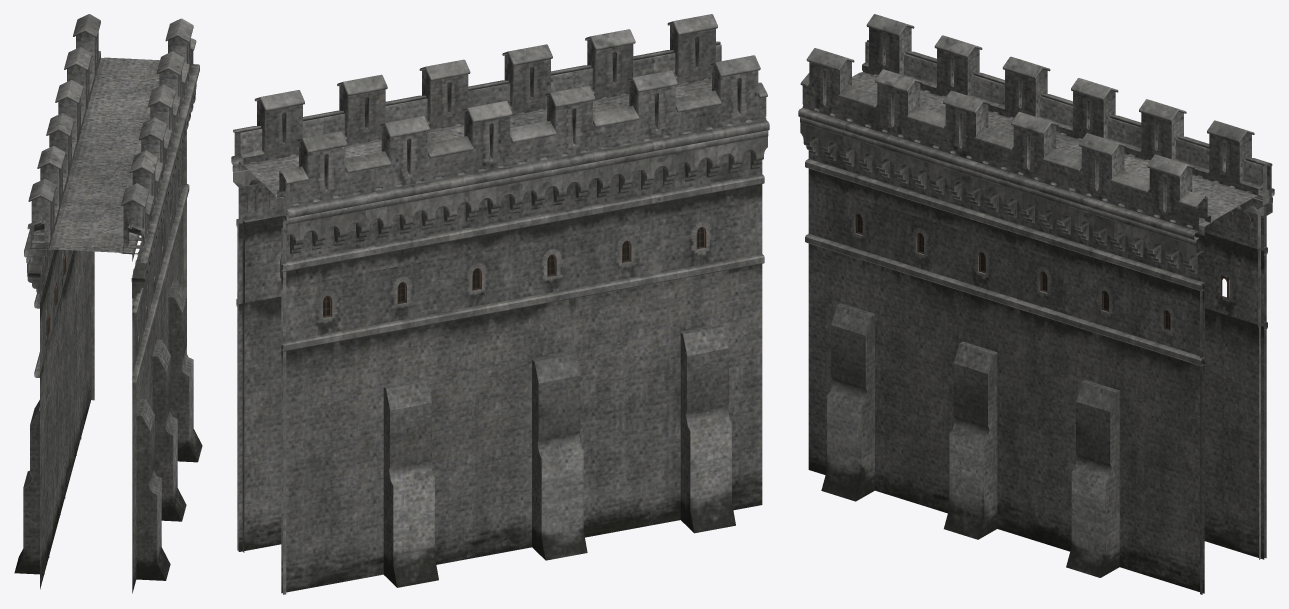
Rendered from Castle_Wall_B_Straight02.fbx.
3 renders of one model, left to right at view 1: azimuth 30°, elevation 25°; view 2: azimuth 150°, elevation 25°; view 3: azimuth 270°, elevation 25°, orthographic. The views are drawn at different scales.
Parts seen in each view (by area): view 1: Castle_Wall_B_Straight.002; view 2: Castle_Wall_B_Straight.002; view 3: Castle_Wall_B_Straight.002.
Part boxes in pixels (<box>): Castle_Wall_B_Straight.002: <box>14,14,202,593</box>; Castle_Wall_B_Straight.002: <box>231,14,769,594</box>; Castle_Wall_B_Straight.002: <box>798,14,1274,594</box>.
Bounding box in the file's own units: 1188 × 1383 × 1409.
